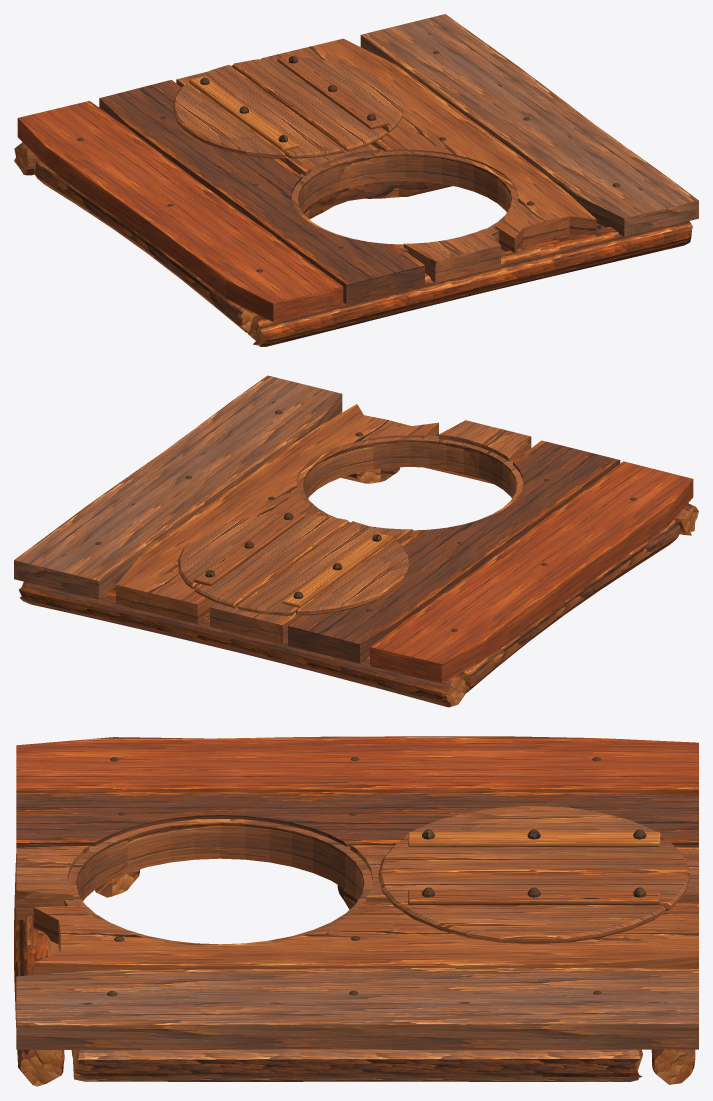
File: floor_hatch__plank_root.glb
3 renders of one model, top to bottom at view 1: azimuth 30°, elevation 25°; view 2: azimuth 150°, elevation 25°; view 3: azimuth 270°, elevation 25°, orthographic. The views are drawn at different scales.
Visible parts, largest first — view 1: model; view 2: model; view 3: model.
Part boxes in pixels (x1,y1,x2,y2): model: [14, 14, 698, 346]; model: [14, 375, 698, 707]; model: [14, 736, 698, 1086].
Bounding box in the file's own units: 1.98 × 0.2869 × 1.99.
Materials: 19 (19 with a texture image).
